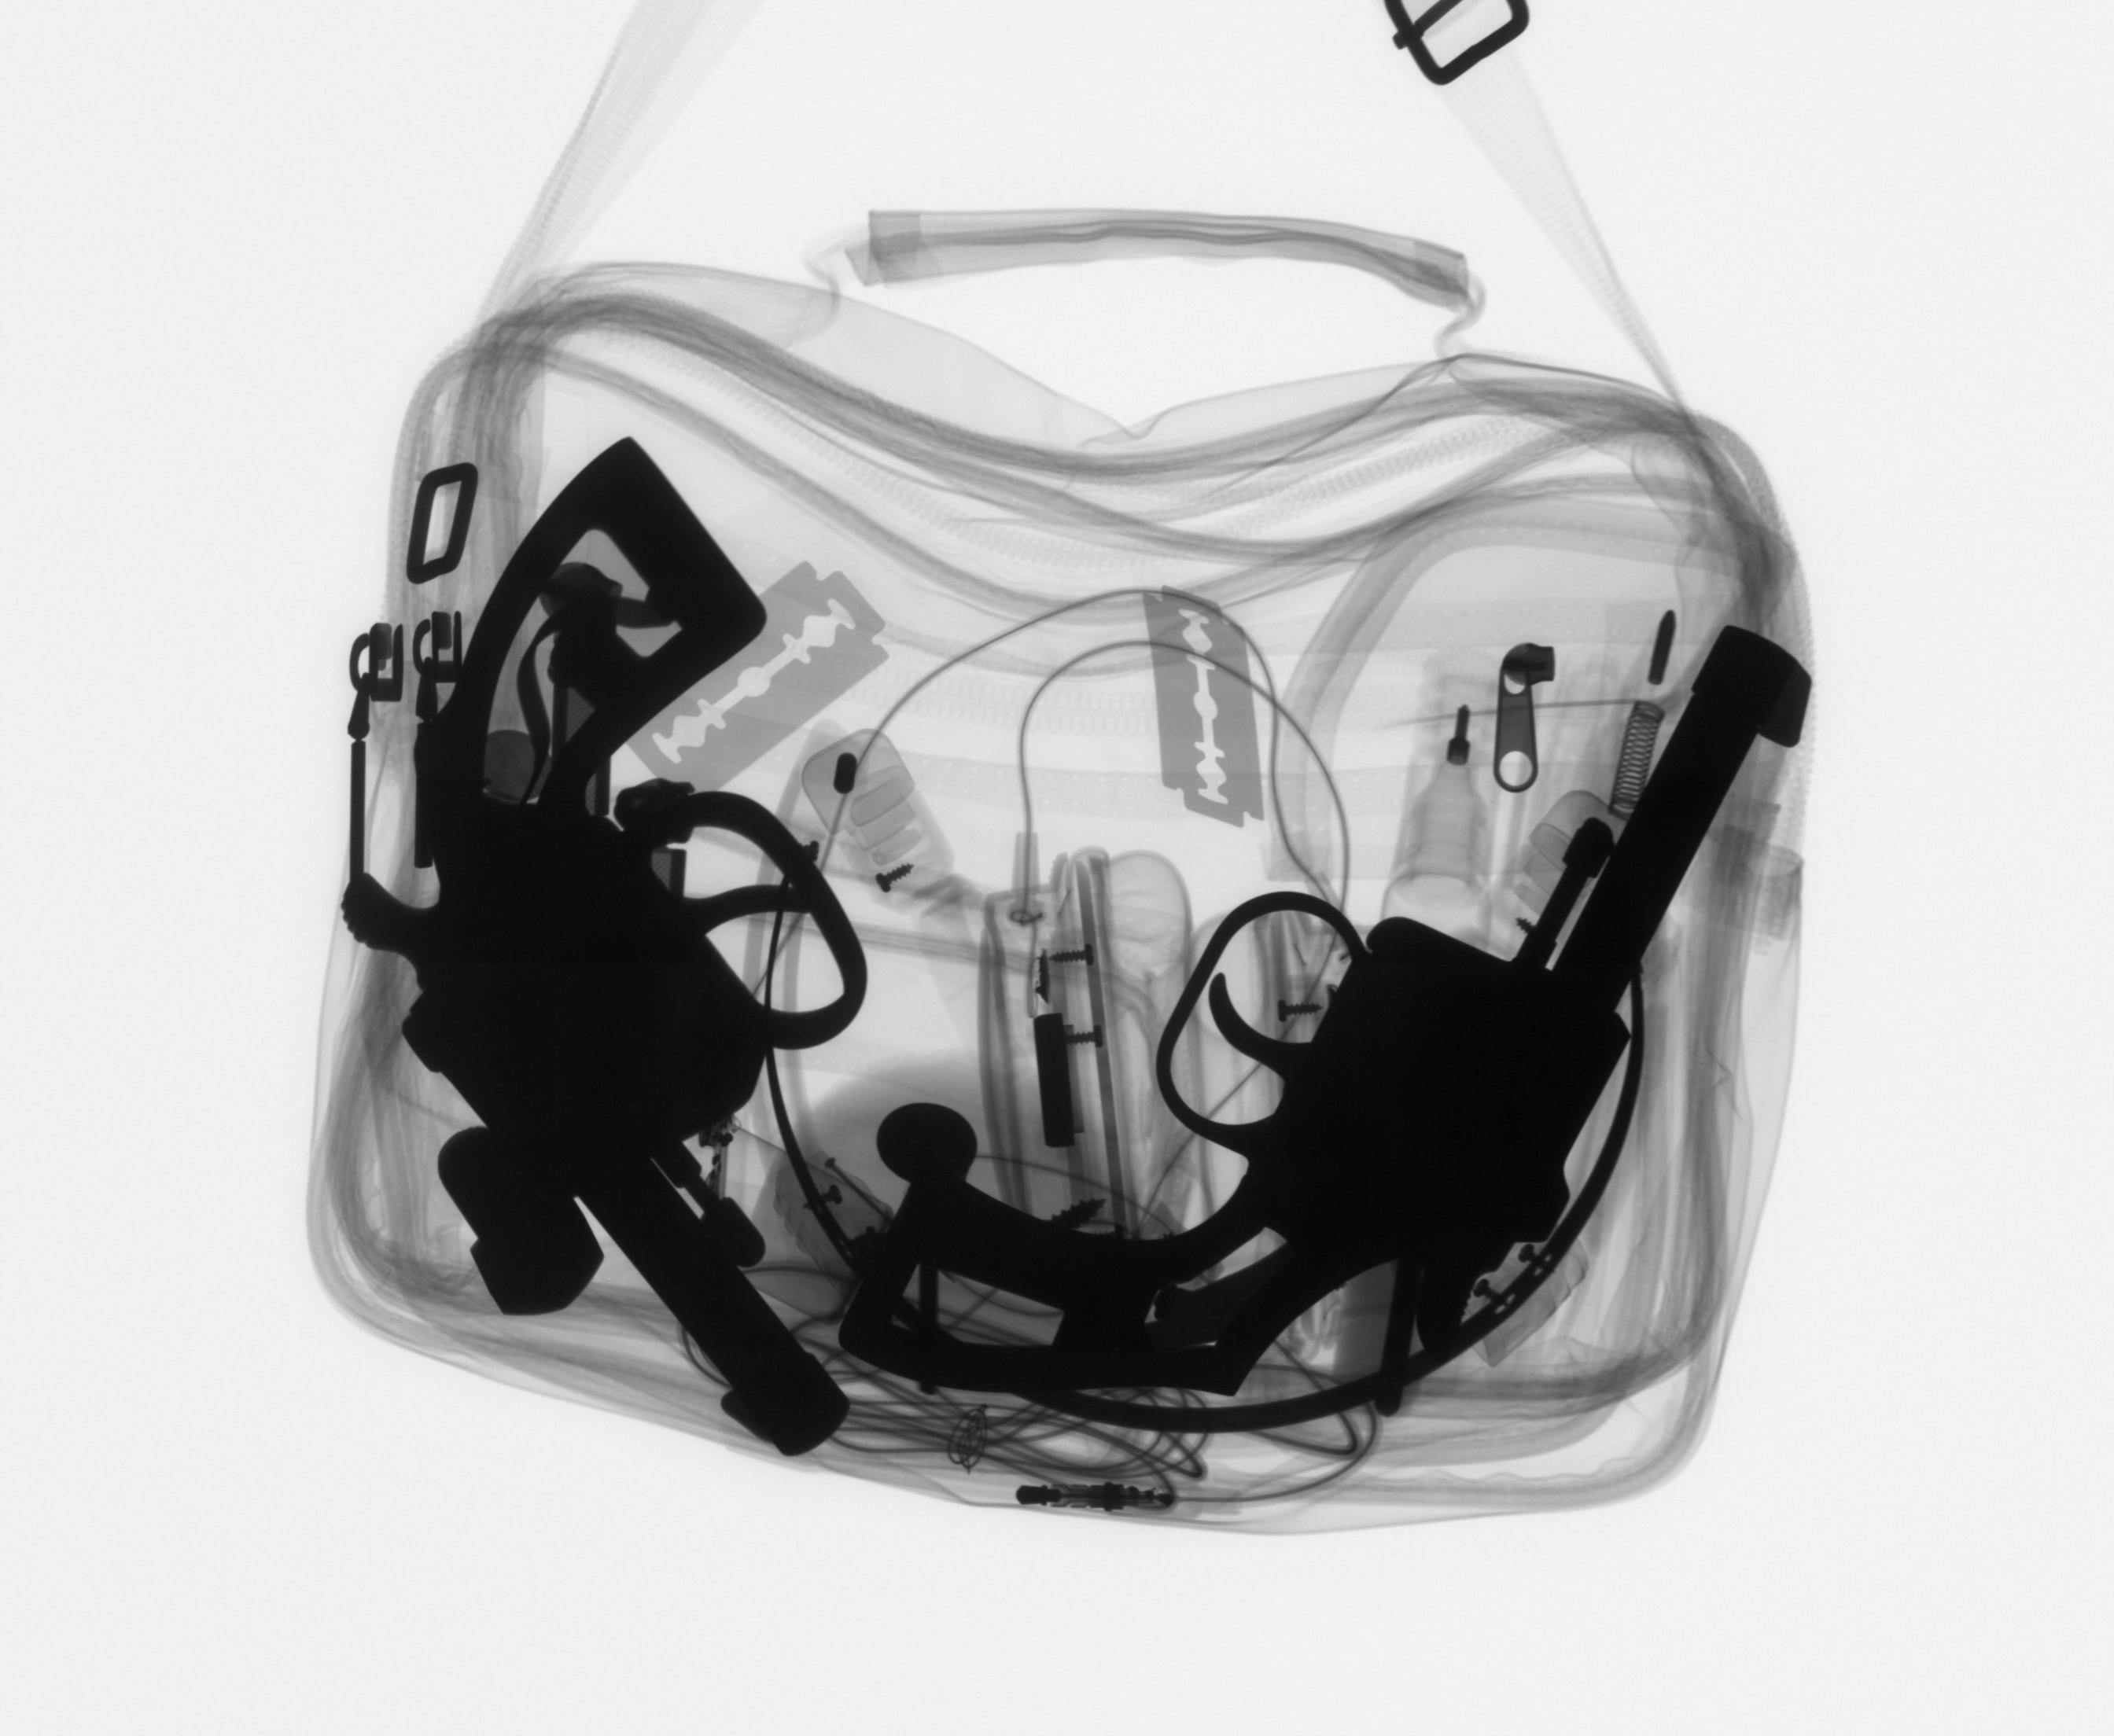Handgun: (827, 614, 1826, 1427), (321, 423, 874, 1483)
RazorBlade: (632, 563, 892, 795), (1138, 574, 1280, 848)
